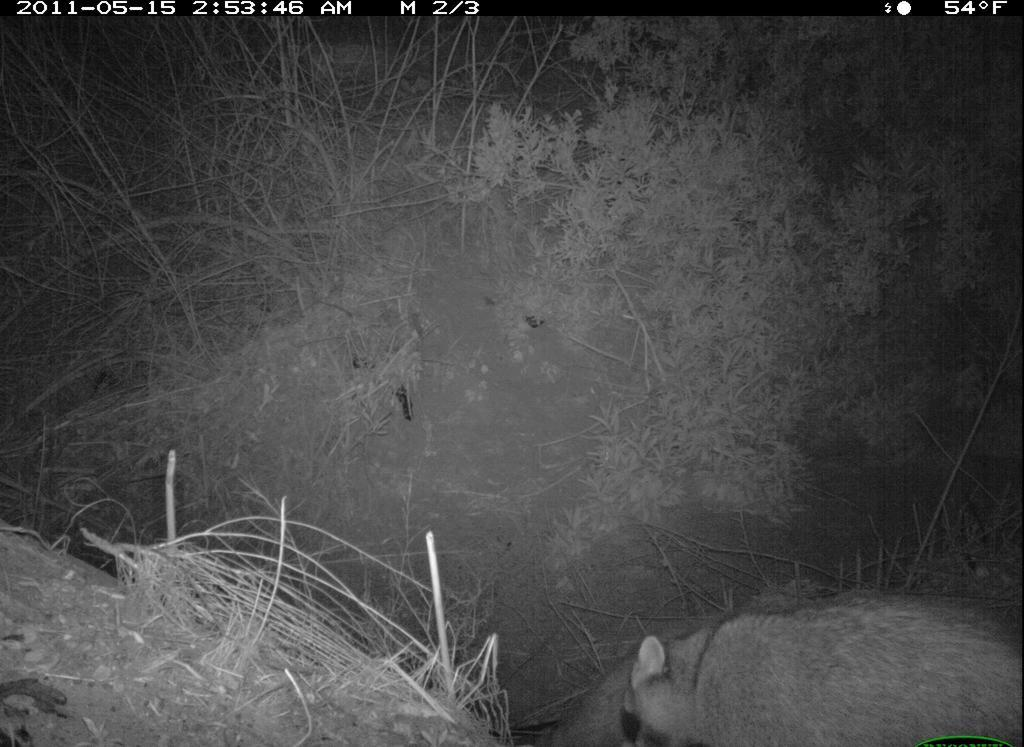raccoon: (592, 573, 1018, 738)
